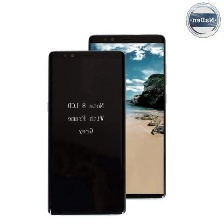phone: (83, 31, 169, 201), (44, 46, 127, 216)
